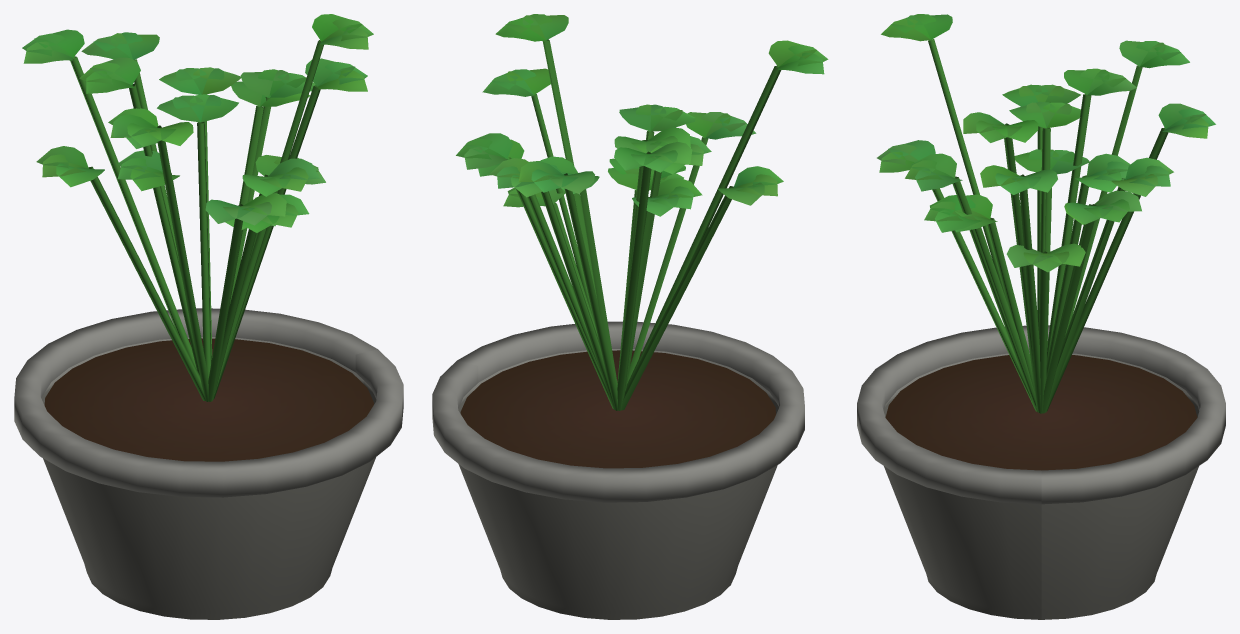
File: salsa.glb
3 renders of one model, left to right at view 1: azimuth 30°, elevation 25°; view 2: azimuth 150°, elevation 25°; view 3: azimuth 270°, elevation 25°, orthographic. The views are drawn at different scales.
Visible parts, largest first — view 1: salsa; view 2: salsa; view 3: salsa.
Boxes of the visible parts, box(x1,y1,x2,y2) form: salsa: box(14, 14, 403, 619); salsa: box(432, 14, 828, 619); salsa: box(857, 14, 1225, 619).
Size of the model in its own units: 0.159 by 0.2374 by 0.159.
